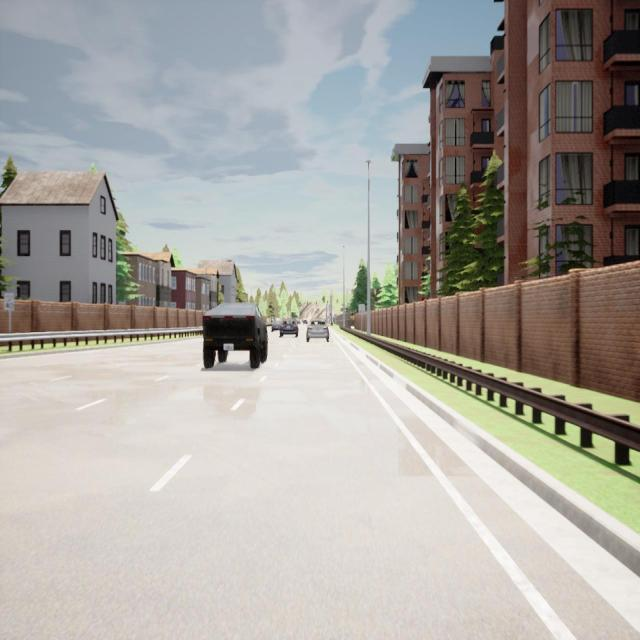Traffic_Signs: (4, 293, 14, 309), (358, 304, 365, 314)
Vehicle: (202, 300, 267, 369), (306, 320, 329, 343), (280, 320, 298, 338), (272, 321, 280, 332), (303, 320, 308, 324), (297, 320, 301, 324)
traffic_light: (307, 300, 308, 306), (316, 301, 317, 305), (327, 300, 328, 304), (330, 312, 331, 316)
